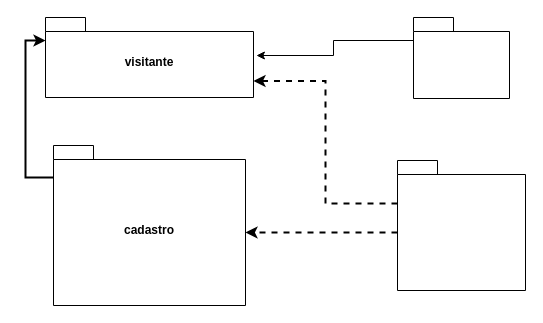
This 543x323 diagram has some shape labels left out. Here are the shapes that lost their labels. From the top down, the centre of each, then its label:
(x=461, y=57): ações
(x=461, y=225): login
